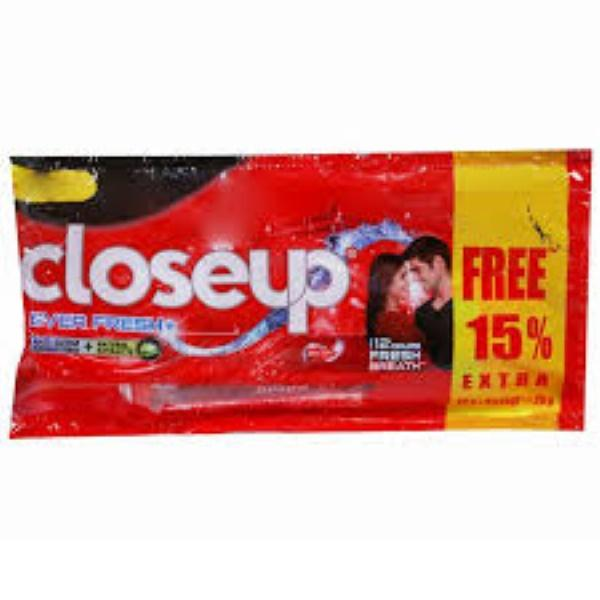CloseUp: (3, 142, 600, 450)
